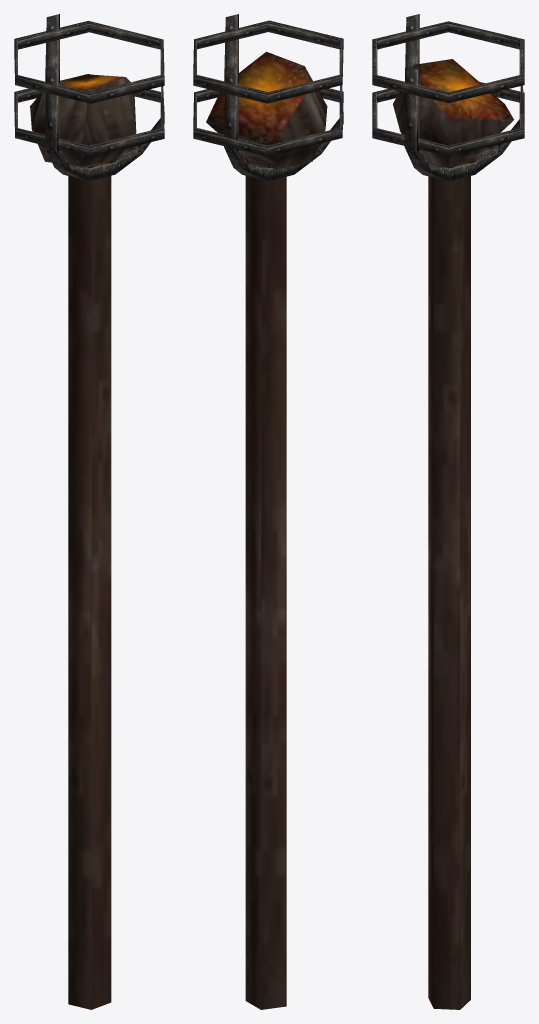
Rendered from OC_LOB_LIGHTER_HUGE3.glb.
3 views of the same model, side by side, from view 1: azimuth 30°, elevation 25°; view 2: azimuth 150°, elevation 25°; view 3: azimuth 270°, elevation 25° (orthographic).
Parts seen in each view (by area): view 1: Mesh; view 2: Mesh; view 3: Mesh.
Boxes of the visible parts, x1,y1,x2,y2 form: Mesh: [14, 14, 164, 1009]; Mesh: [193, 14, 343, 1009]; Mesh: [372, 14, 524, 1009].
Bounding box in the file's own units: 0.4538 × 2.8 × 0.4024.
2 materials, 2 textured.
